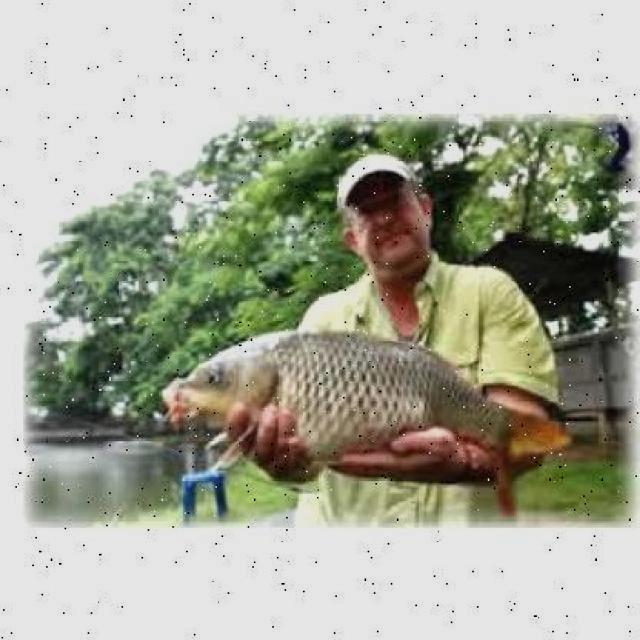ikan-mas: (158, 322, 518, 456)
